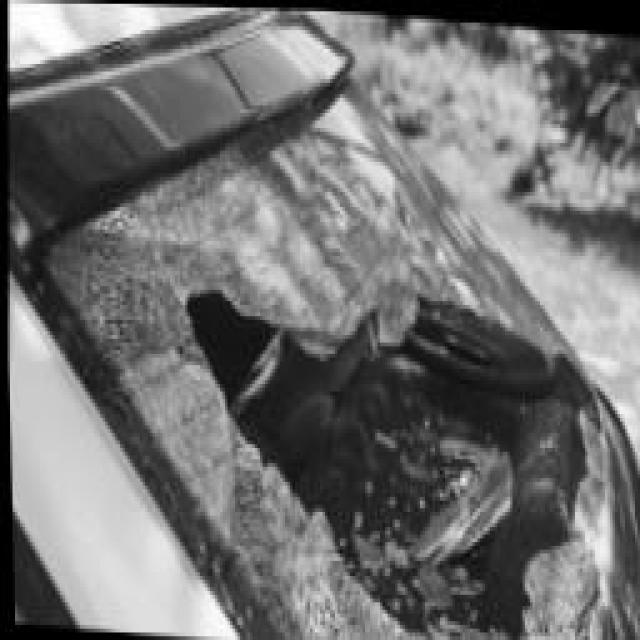Windshield: (42, 64, 631, 639)
